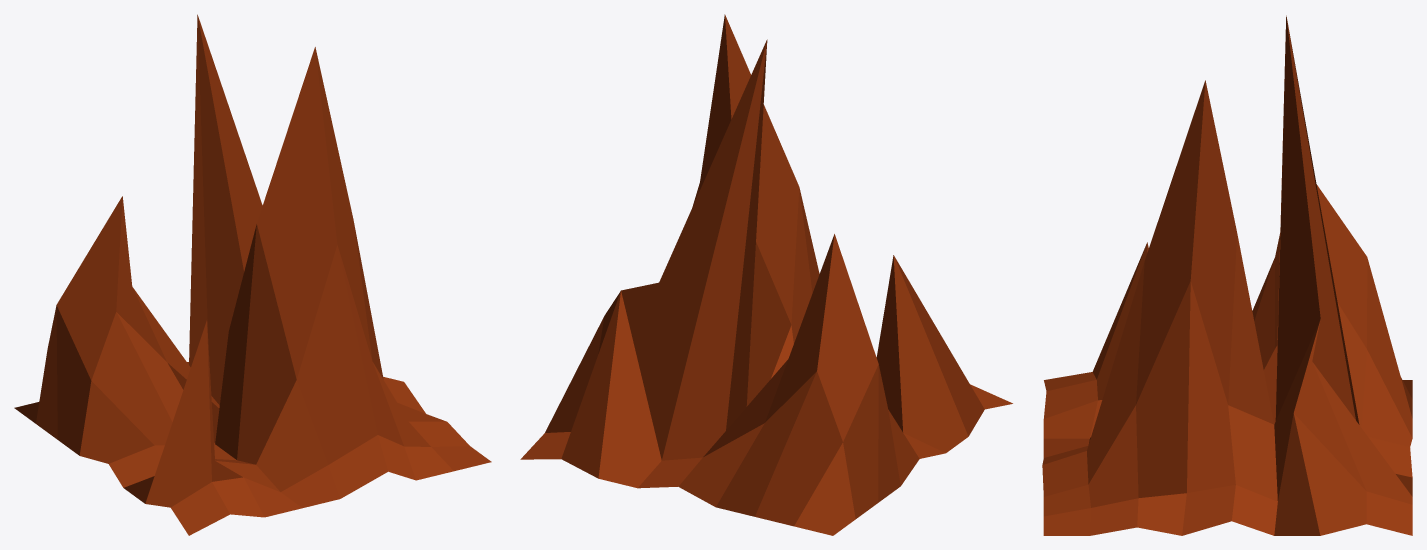
File: Hell Rock 01.fbx
The picture shows the model from 3 angles, left to right: view 1: azimuth 30°, elevation 25°; view 2: azimuth 150°, elevation 25°; view 3: azimuth 270°, elevation 25°; orthographic projection. The views are drawn at different scales.
Visible parts, largest first — view 1: Rock 1; view 2: Rock 1; view 3: Rock 1.
Part boxes in pixels (box(x1,y1,x2,y2)): Rock 1: box(14, 14, 491, 535); Rock 1: box(520, 14, 1012, 535); Rock 1: box(1042, 15, 1412, 535).
Bounding box in the file's own units: 201 × 257 × 201.
